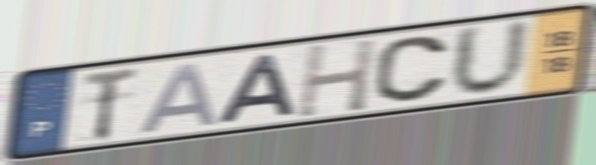A: (211, 50, 301, 127), (134, 60, 222, 136)
C: (370, 34, 452, 106)
H: (293, 35, 379, 121)
T: (79, 64, 142, 145)
U: (447, 15, 534, 100)
